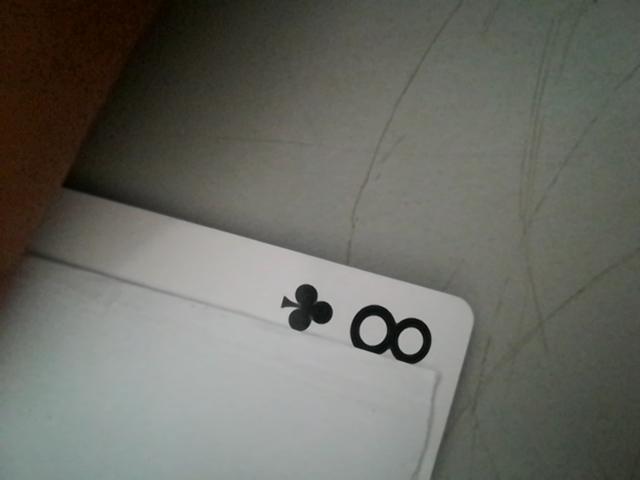mh 8: (267, 272, 450, 370)
